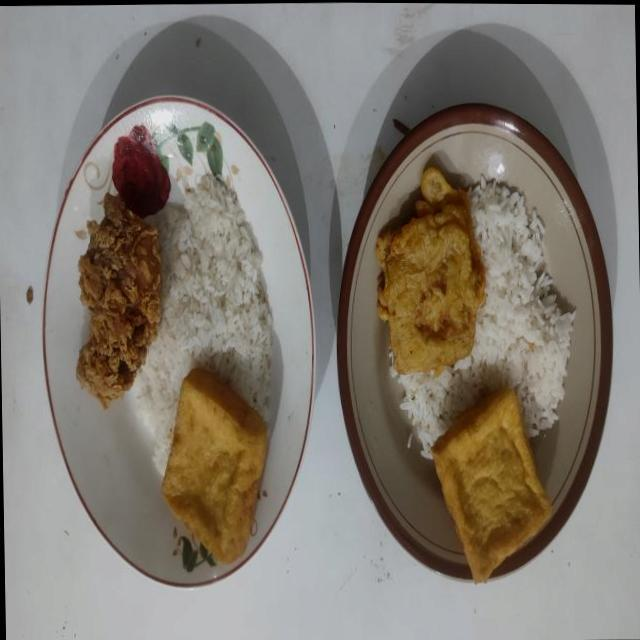nasi_putih: (391, 180, 575, 458), (134, 174, 273, 474)
tahu_goreng: (432, 388, 552, 582), (162, 368, 267, 564)
